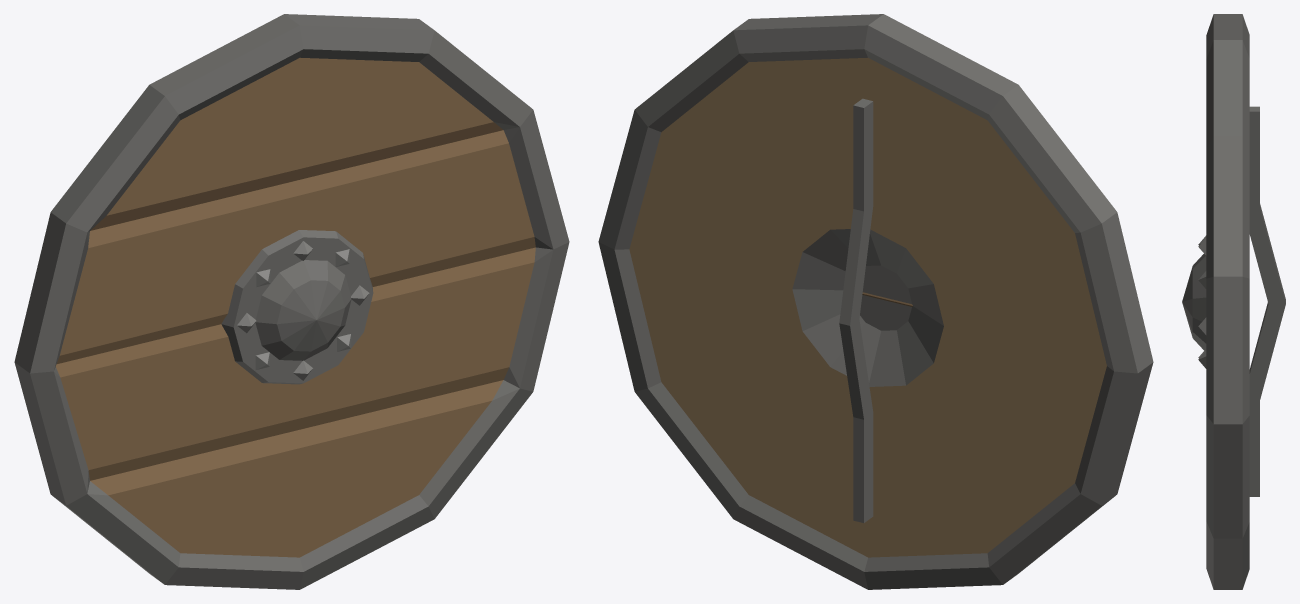
File: SM_pwe_slavic_shield_02a.fbx
The picture shows the model from 3 angles, left to right: view 1: azimuth 30°, elevation 25°; view 2: azimuth 150°, elevation 25°; view 3: azimuth 270°, elevation 25°; orthographic projection. The views are drawn at different scales.
Visible parts, largest first — view 1: SM_pwe_slavic_shield_02a; view 2: SM_pwe_slavic_shield_02a; view 3: SM_pwe_slavic_shield_02a.
Boxes of the visible parts, x1=… form: SM_pwe_slavic_shield_02a: x1=14, y1=14, x2=569, y2=589; SM_pwe_slavic_shield_02a: x1=598, y1=14, x2=1153, y2=589; SM_pwe_slavic_shield_02a: x1=1182, y1=14, x2=1285, y2=589.
Bounding box in the file's own units: 70.52 × 70.52 × 12.67.
